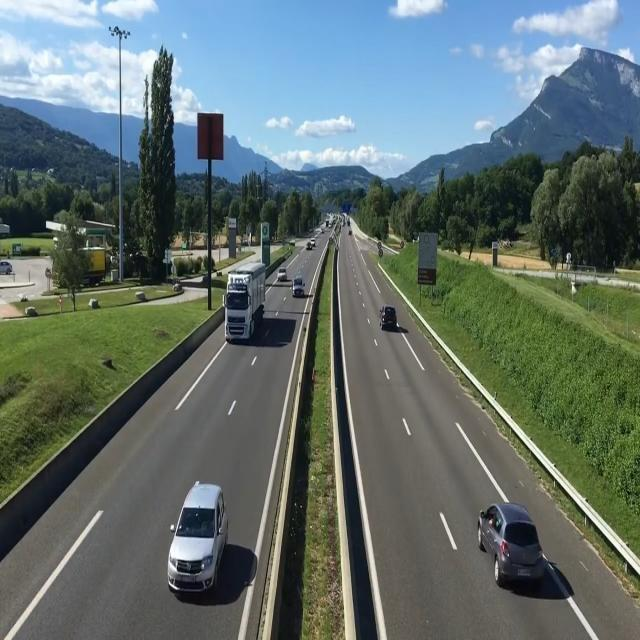Car: (165, 482, 227, 593), (477, 502, 548, 590), (379, 304, 396, 330), (0, 260, 12, 276), (277, 267, 288, 281)
Truck: (224, 261, 266, 342)
